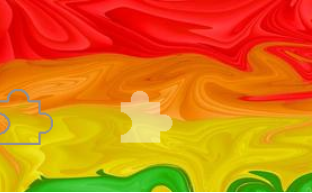target: (117, 89, 175, 147)
